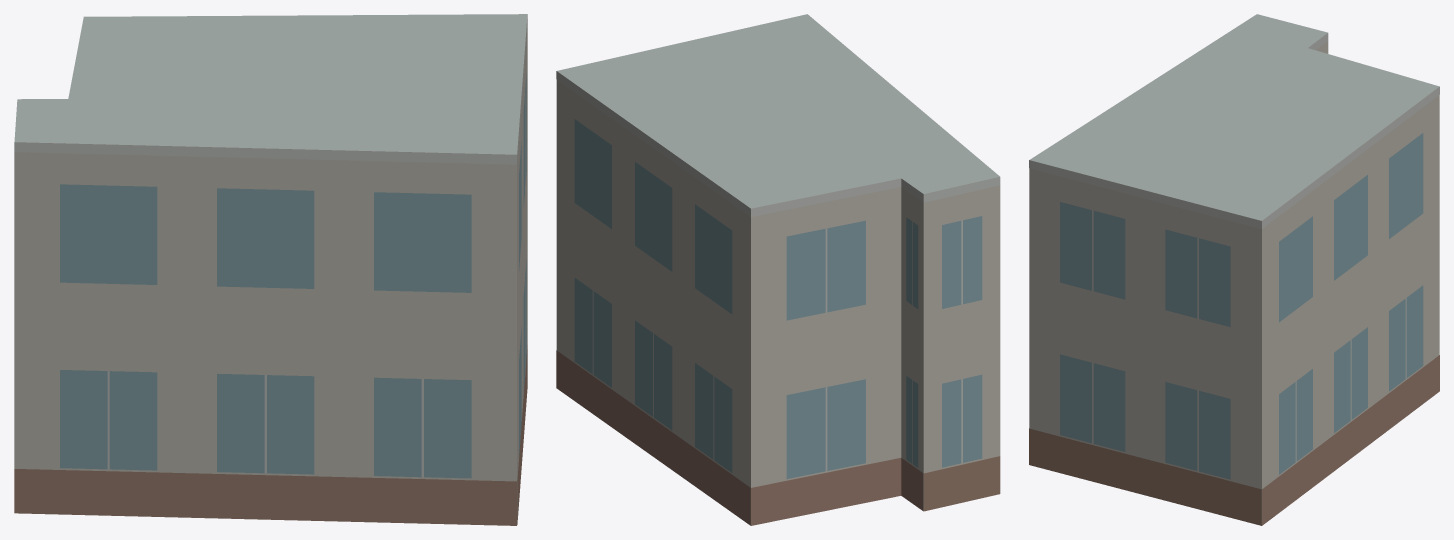
The model's file is survey-upis-32672582.glb.
The picture shows the model from 3 angles, left to right: view 1: azimuth 30°, elevation 25°; view 2: azimuth 150°, elevation 25°; view 3: azimuth 270°, elevation 25°; orthographic projection. The views are drawn at different scales.
Visible parts, largest first — view 1: survey-upis-32672582.tmp; view 2: survey-upis-32672582.tmp; view 3: survey-upis-32672582.tmp.
Boxes of the visible parts, x1,y1,x2,y2 form: survey-upis-32672582.tmp: (14, 14, 527, 525); survey-upis-32672582.tmp: (556, 14, 1000, 525); survey-upis-32672582.tmp: (1029, 14, 1439, 525).
Size of the model in its own units: 13.25 by 9.1 by 11.11.
